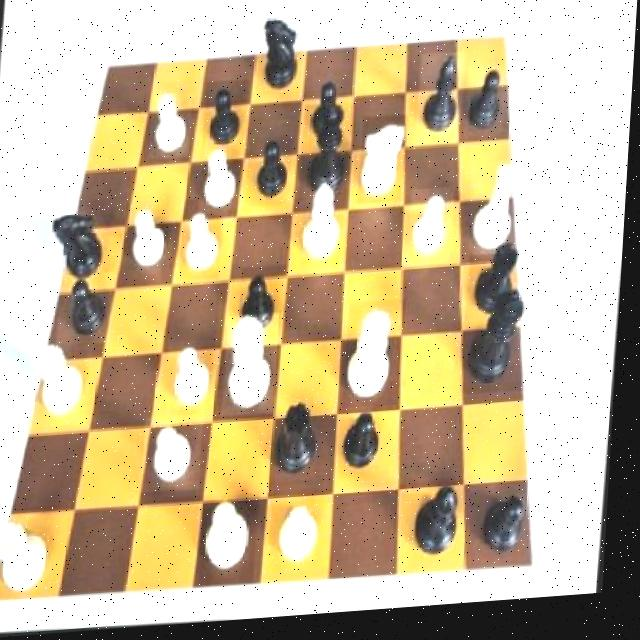bishop: (415, 486, 476, 572), (418, 57, 467, 150)
black-bishop: (464, 289, 539, 404)
black-king: (50, 207, 111, 289), (256, 15, 306, 104)
black-knight: (61, 272, 118, 348), (345, 410, 400, 486), (486, 495, 537, 568), (242, 269, 290, 344), (204, 82, 251, 158), (248, 141, 294, 212), (466, 71, 509, 146), (309, 78, 352, 147)
black-pawn: (301, 106, 359, 206)
black-queen: (471, 239, 532, 326), (278, 403, 325, 488)
black-rook: (205, 497, 267, 591), (303, 182, 352, 269)
white-bishop: (227, 316, 284, 420)
white-king: (469, 167, 529, 264), (362, 120, 412, 211)
white-knight: (148, 416, 210, 496), (274, 498, 331, 578), (182, 200, 227, 285), (410, 193, 458, 272), (170, 342, 223, 411), (202, 139, 245, 221), (128, 206, 171, 273), (151, 96, 193, 162)
white-pawn: (348, 304, 411, 415)
white-queen: (31, 344, 97, 432), (0, 515, 63, 602)
